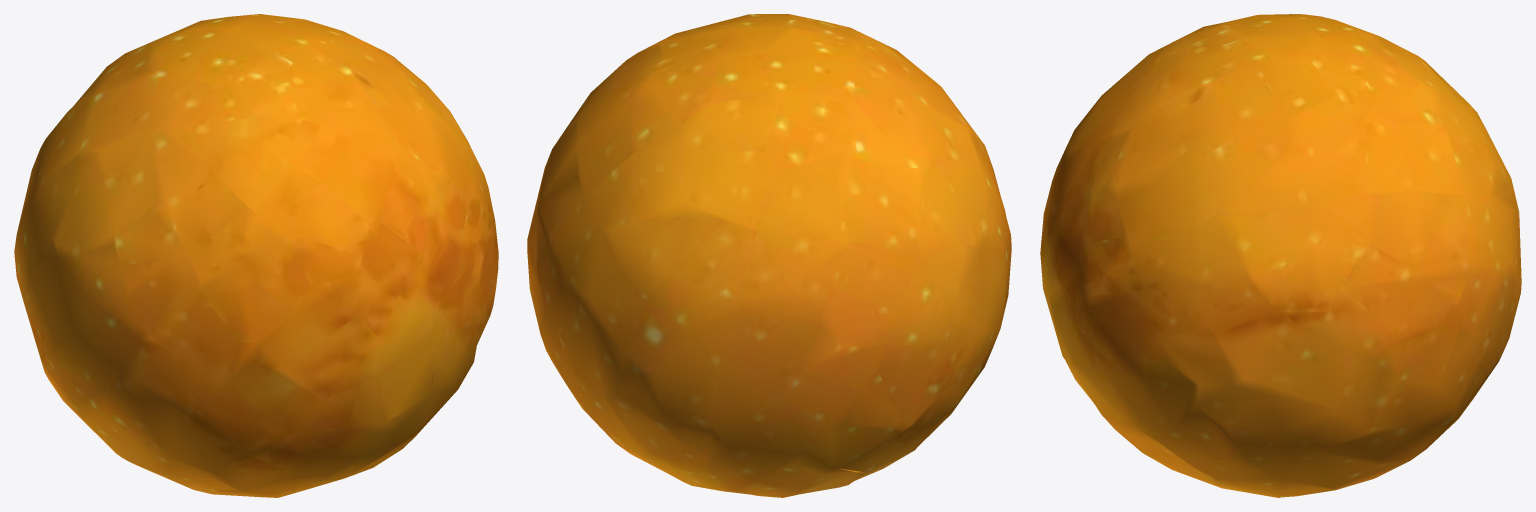
3 views of the same model, side by side, from view 1: azimuth 30°, elevation 25°; view 2: azimuth 150°, elevation 25°; view 3: azimuth 270°, elevation 25° (orthographic).
Visible parts, largest first — view 1: Orb; view 2: Orb; view 3: Orb.
Part boxes in pixels (bbox=[...]): Orb: bbox=[14, 14, 498, 497]; Orb: bbox=[527, 14, 1011, 497]; Orb: bbox=[1040, 14, 1521, 497].
Size of the model in its own units: 1.98 by 1.98 by 1.99.
Materials: 1 (1 with a texture image).
